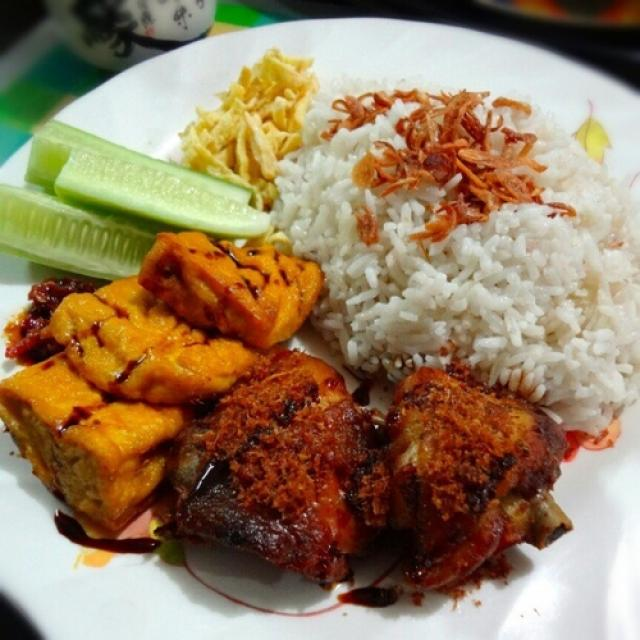米饭主食: (1, 11, 635, 628)
